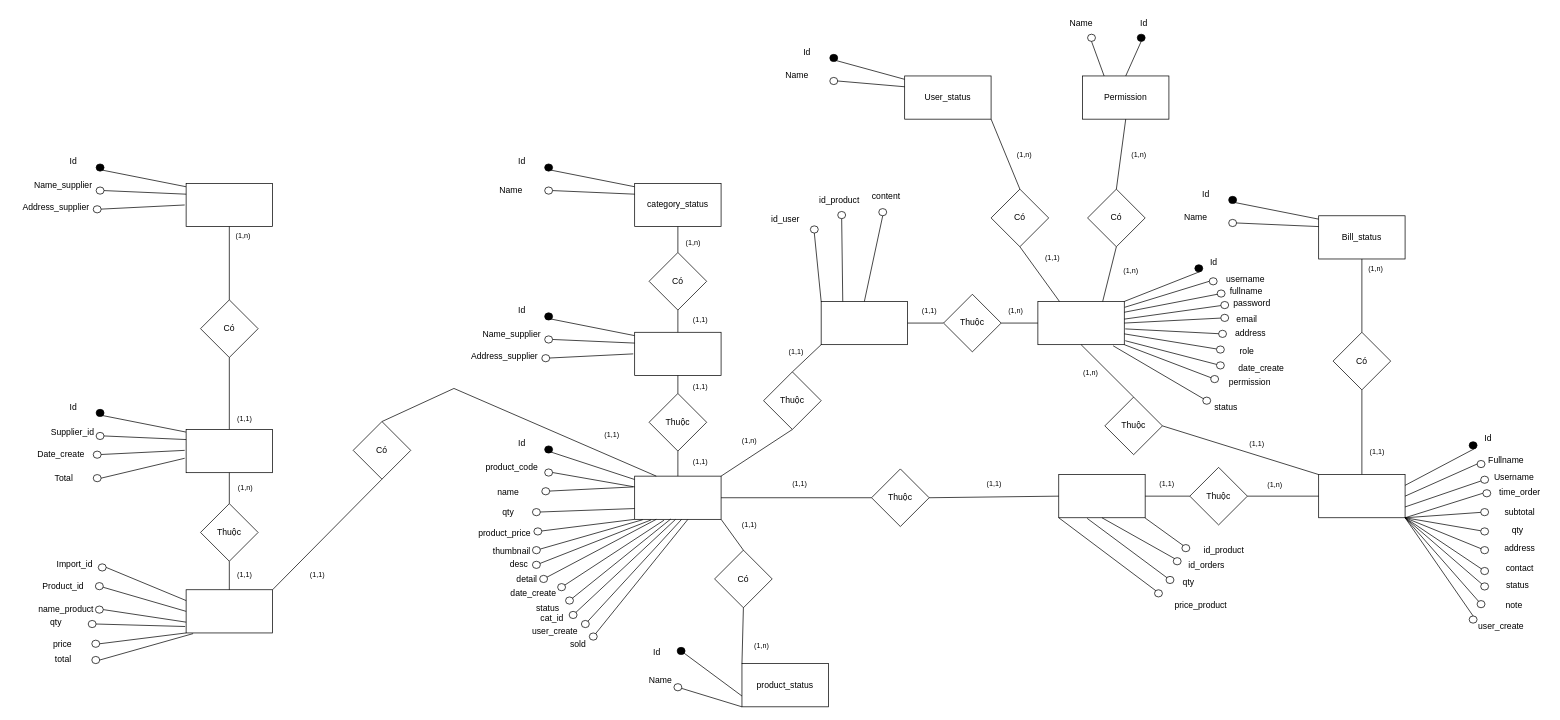
This 1560x720 diagram has some shape labels left out. Here are the shapes that lost their labels. From the top down, the box of each, then its label:
(185, 183, 273, 227): Supplier
(820, 301, 908, 345): Comment
(1037, 301, 1124, 345): User
(634, 332, 721, 375): category
(185, 429, 273, 473): Import_bill
(634, 475, 721, 519): product
(1058, 474, 1145, 518): Detail_bill
(1318, 474, 1405, 518): Bill
(185, 589, 273, 633): Detail_import_bill
